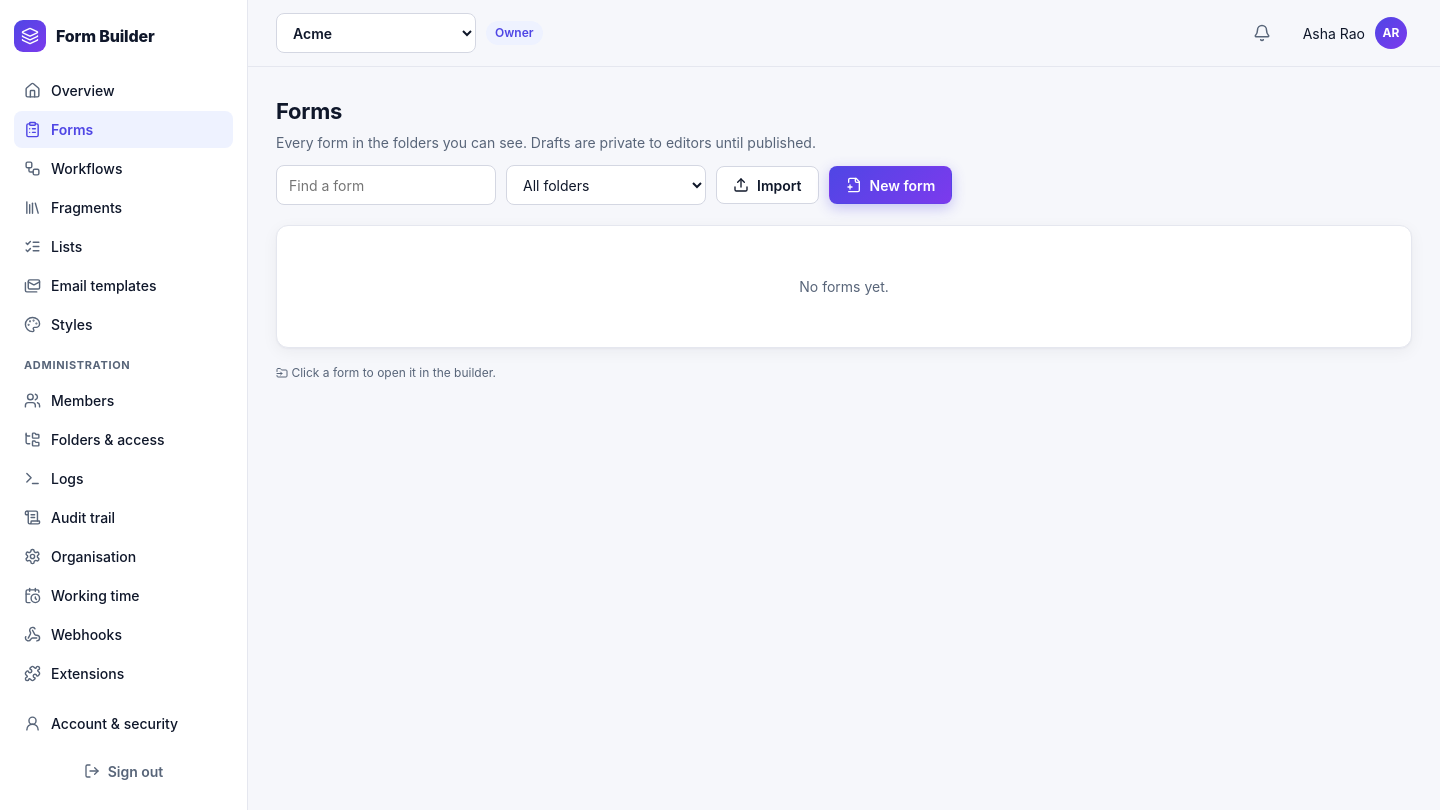
Scenario: studio › forms: the long forms of an industry are offered by industry, and one becomes a draft in steps with its rules and workflow
Click the button "New form": (890, 185) top-left (828, 166), bottom-right (952, 204)
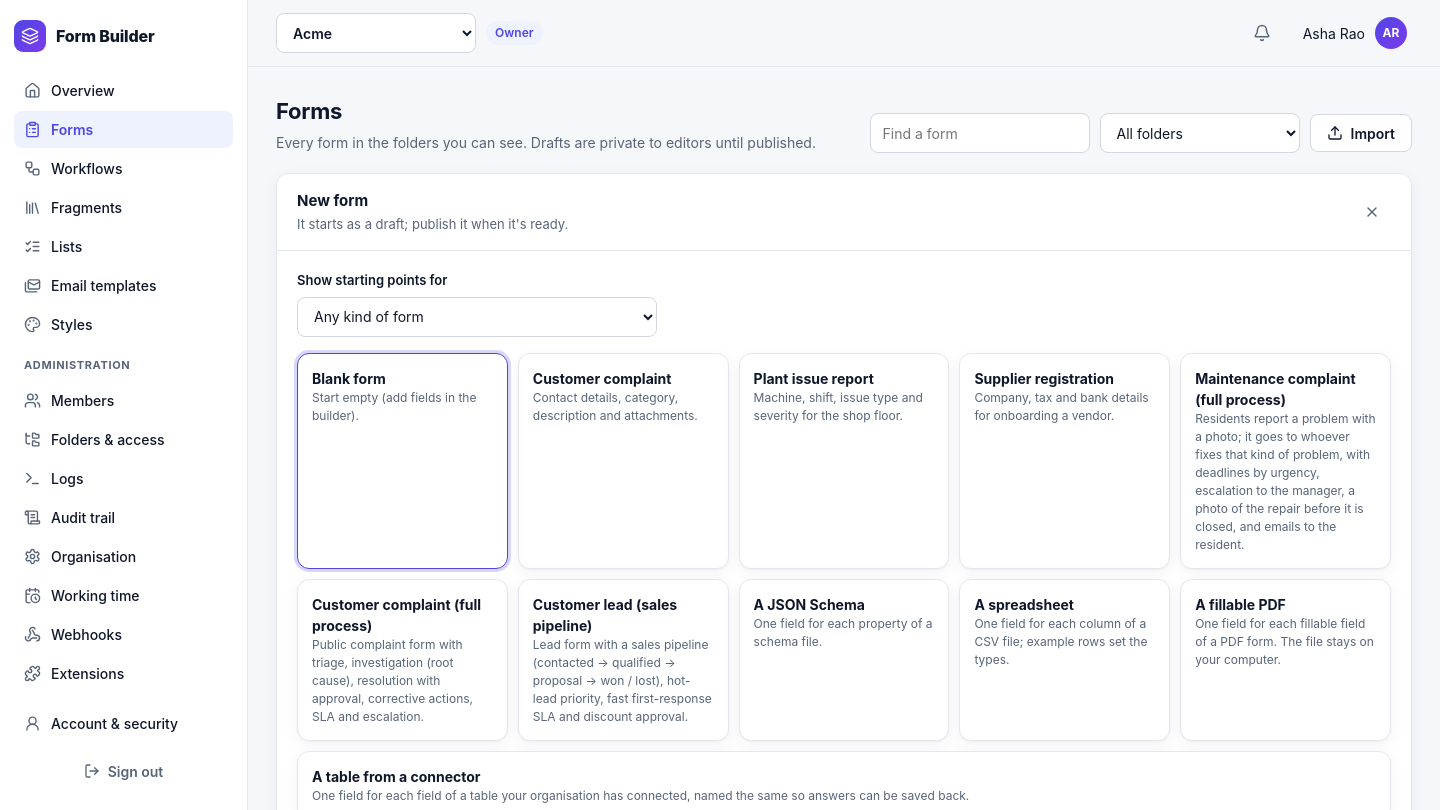
Expected: the text "Car insurance proposal" is not shown
Expected: the text "Blank form" is shown, top-left (312, 370), bottom-right (386, 386)
Select "Insurance" in the dropdown labelled "Show starting points for": (477, 316) top-left (297, 296), bottom-right (657, 336)
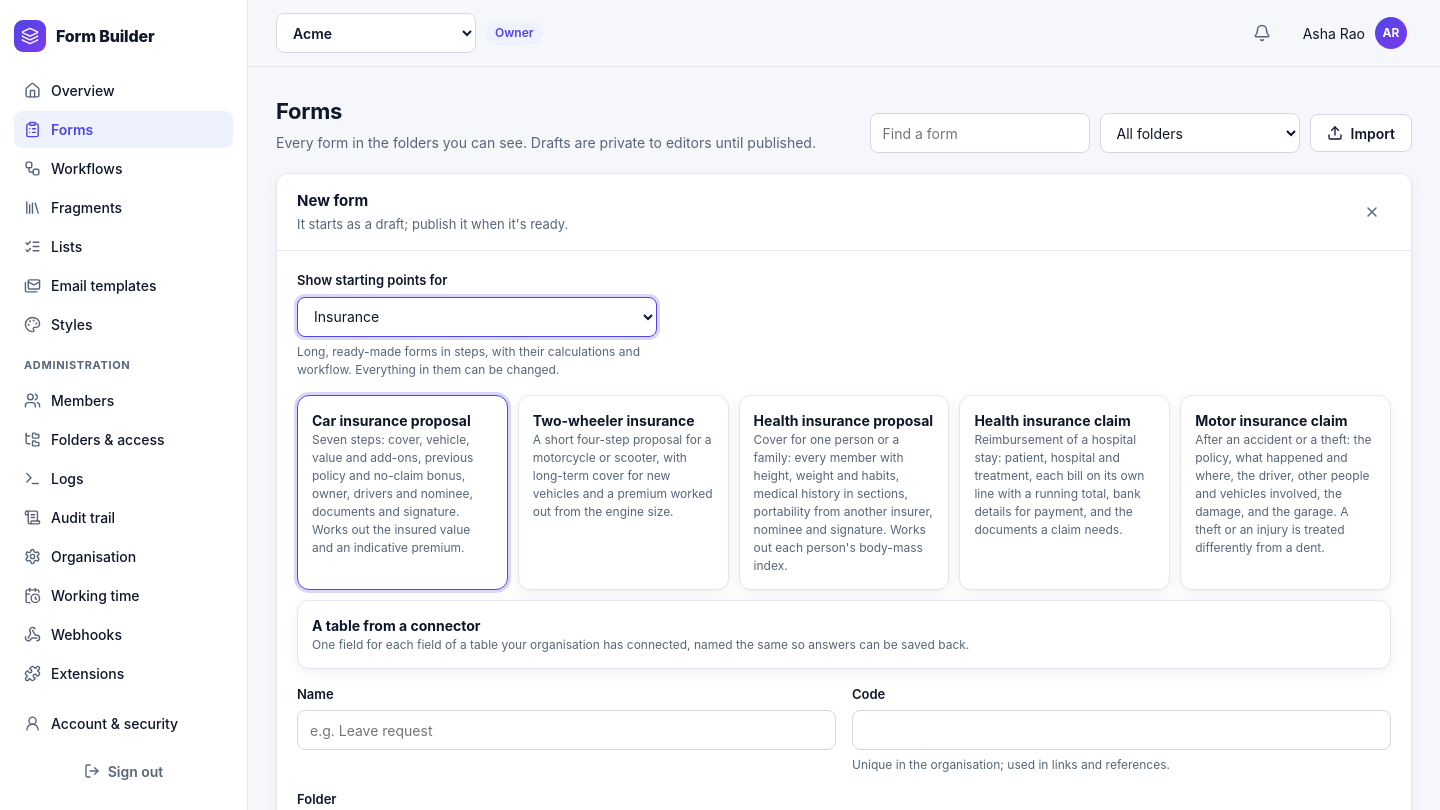
Expected: the text "Blank form" is gone
Expected: the text "Car insurance proposal" is shown, top-left (312, 412), bottom-right (471, 428)
Expected: the text "Two-wheeler insurance" is shown, top-left (533, 412), bottom-right (695, 428)
Click the text "Health insurance claim": (1053, 420) top-left (974, 412), bottom-right (1131, 428)
(page scrolled)
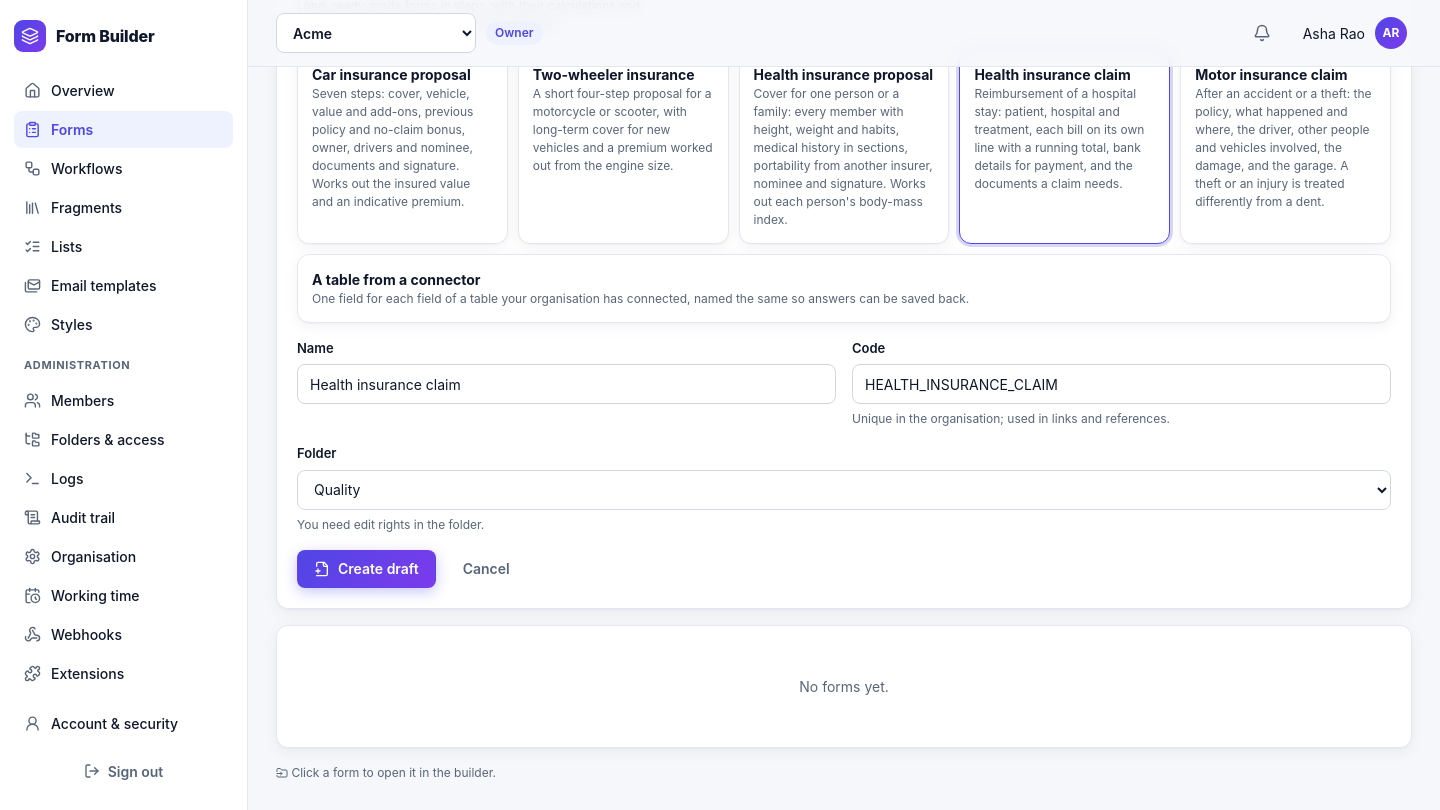
Expected: the field labelled "Name" holds "Health insurance claim", top-left (297, 364), bottom-right (836, 404)
Click the button "Create draft": (366, 568) top-left (297, 550), bottom-right (436, 588)
(page scrolled)
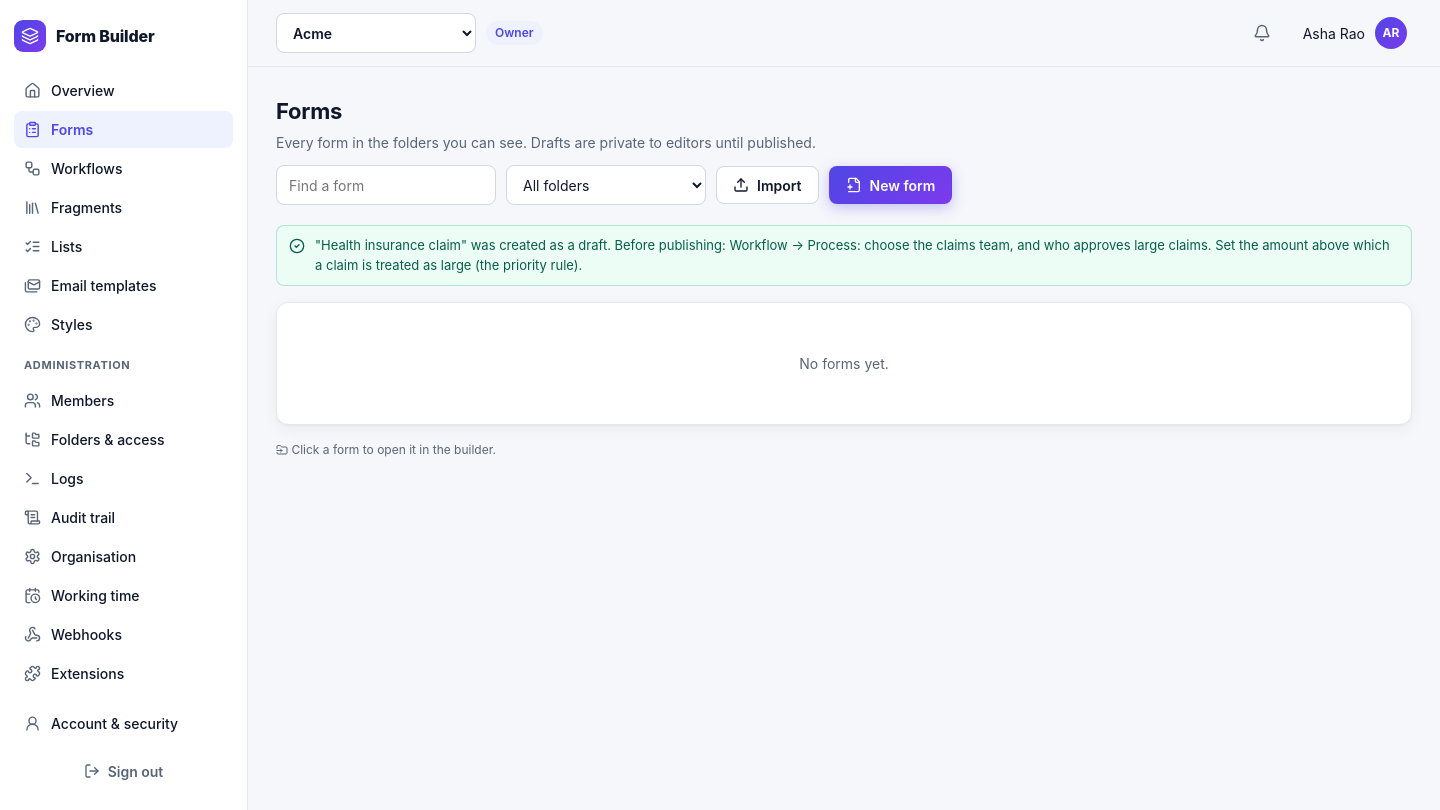
Expected: the text "\"Health insurance claim\" was created as a draft. Before publishing: Workflow → Process: choose the claims team" is shown, top-left (315, 237), bottom-right (1390, 272)
